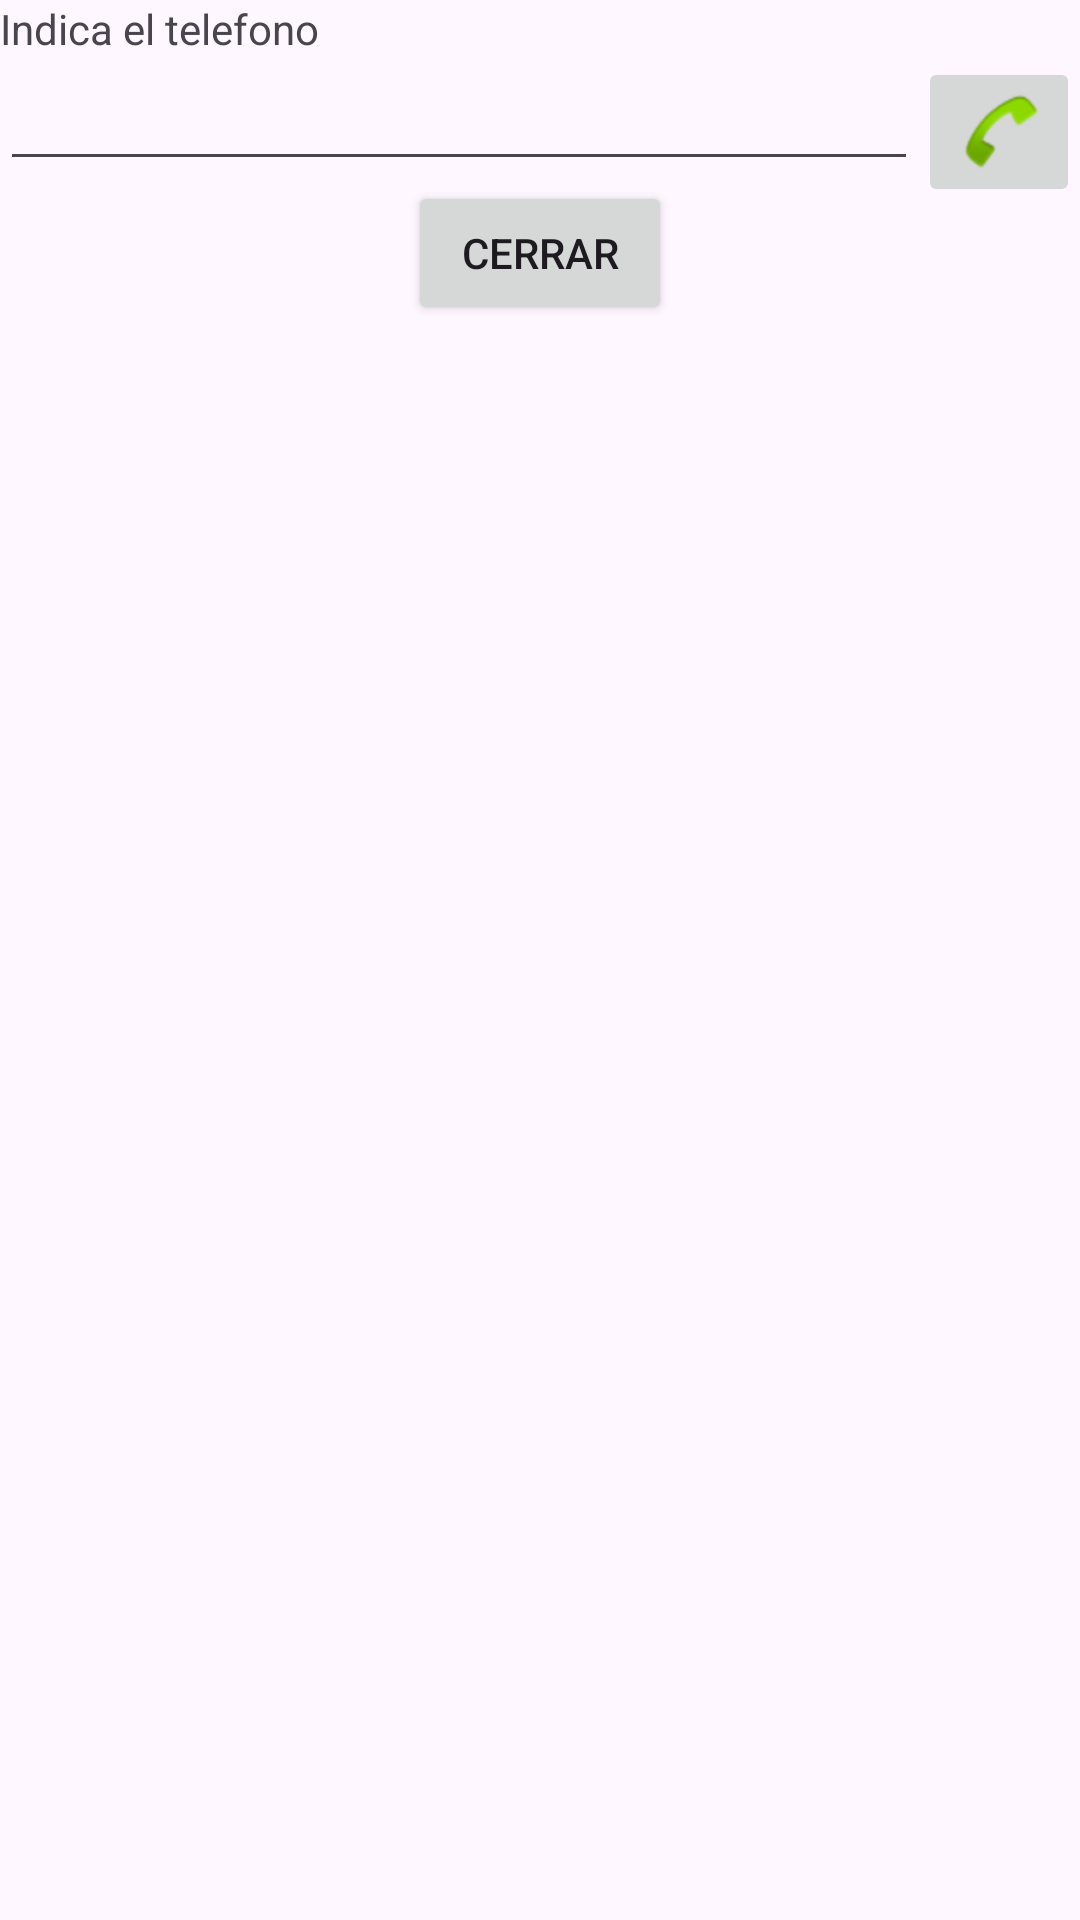

Where icons sit on this 1080×1920 app screen, as (x1, y1, x2, y2):
sym action call: (930, 75, 1068, 189)
